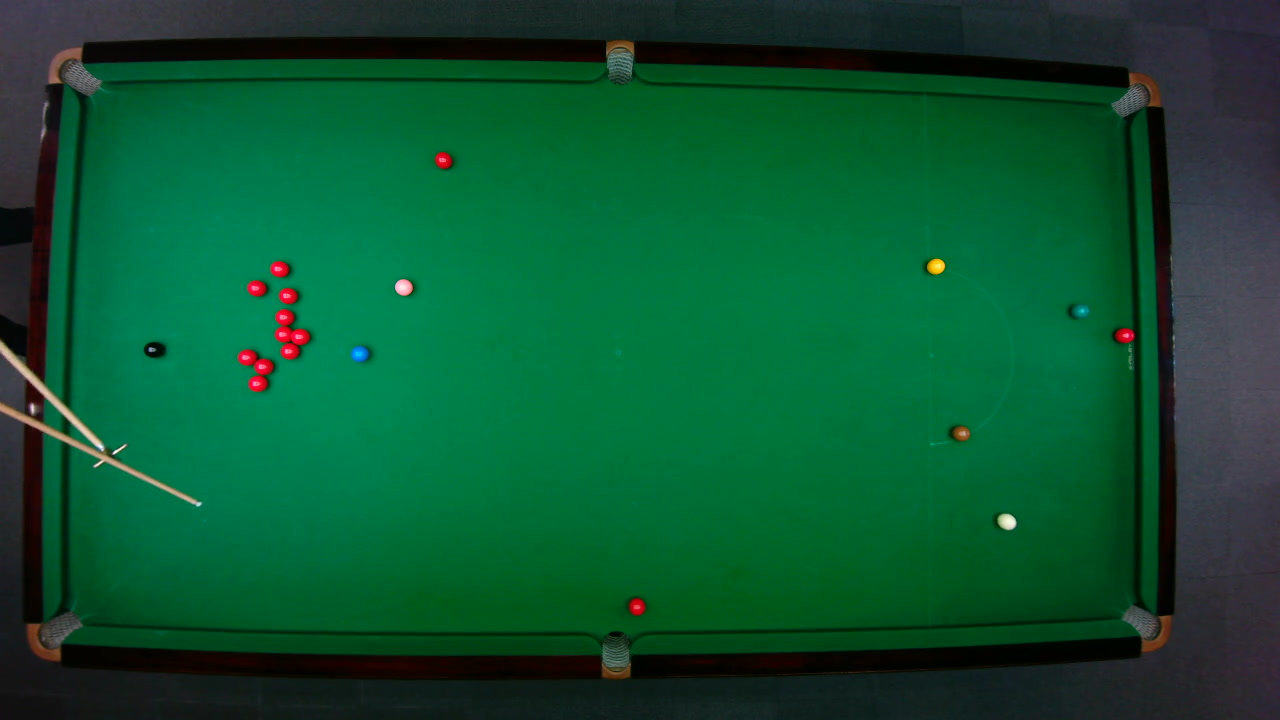bag: (25, 609, 83, 661), (46, 46, 102, 96), (1119, 603, 1171, 651), (1108, 71, 1161, 117), (600, 629, 630, 680), (605, 38, 633, 85)
black: (142, 340, 163, 358)
blue: (349, 344, 370, 362)
brown: (951, 424, 970, 441)
cue: (0, 396, 205, 510)
green: (1068, 302, 1090, 318)
pink: (393, 277, 413, 296)
red: (286, 326, 310, 345), (236, 347, 258, 366), (252, 356, 274, 375), (246, 374, 268, 392), (245, 278, 267, 296), (268, 259, 290, 277), (1113, 326, 1136, 343), (433, 150, 453, 169), (626, 596, 646, 615), (273, 307, 294, 325), (277, 286, 298, 304), (279, 342, 299, 359), (273, 325, 292, 342)
white: (995, 511, 1017, 530)
yellow: (925, 257, 945, 274)
zone: (927, 266, 1013, 440)
